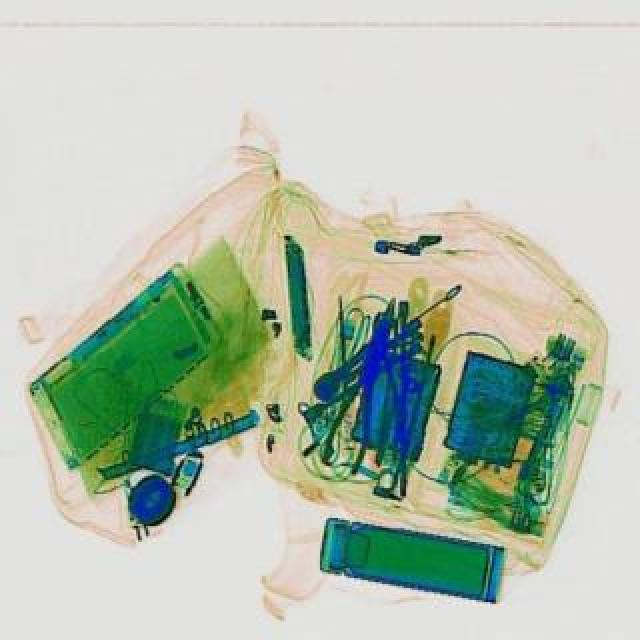wrench: (316, 290, 416, 474), (358, 310, 402, 442)
